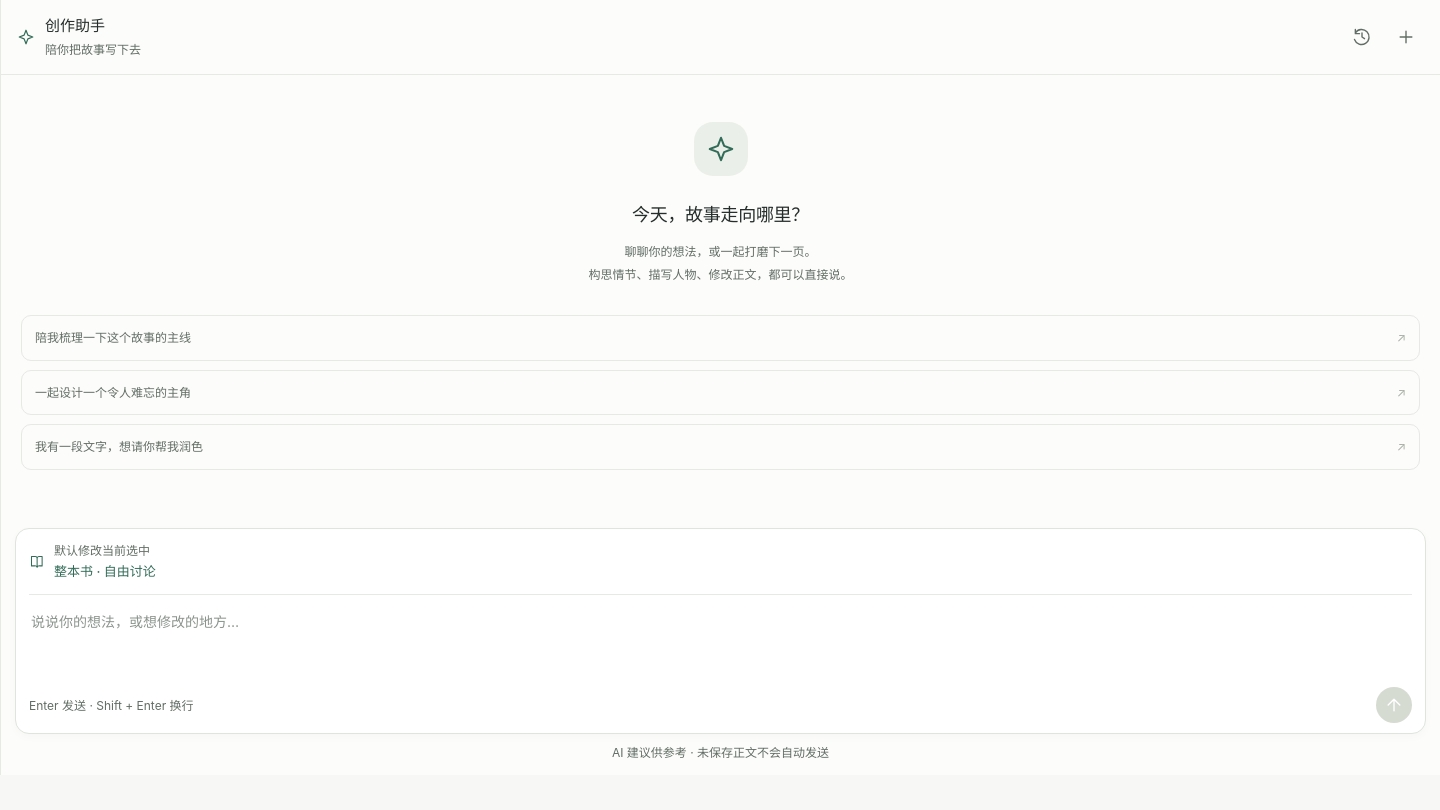
AssistantPanel 历史默认关闭与归档分组 › 点历史条目切换会话并关闭历史；有未发送草稿时先确认，拒绝则保留草稿
This screenshot has width=1440, height=810.
Type "还没发出去" into the text box named "消息输入" at (720, 644), box 29,608 -> 1412,680
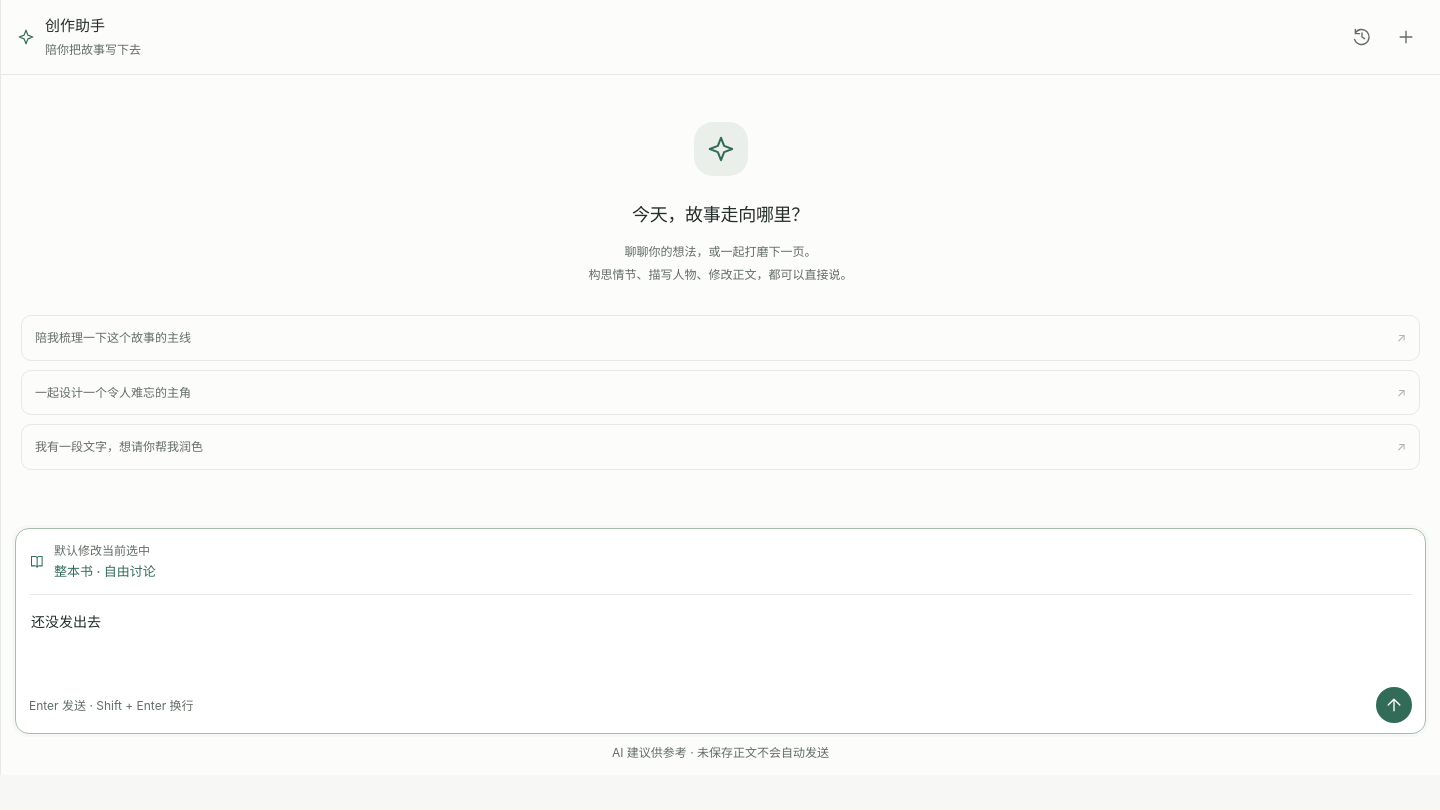
Click the button named "历史对话" at (1362, 37), box 1344,19 -> 1380,55
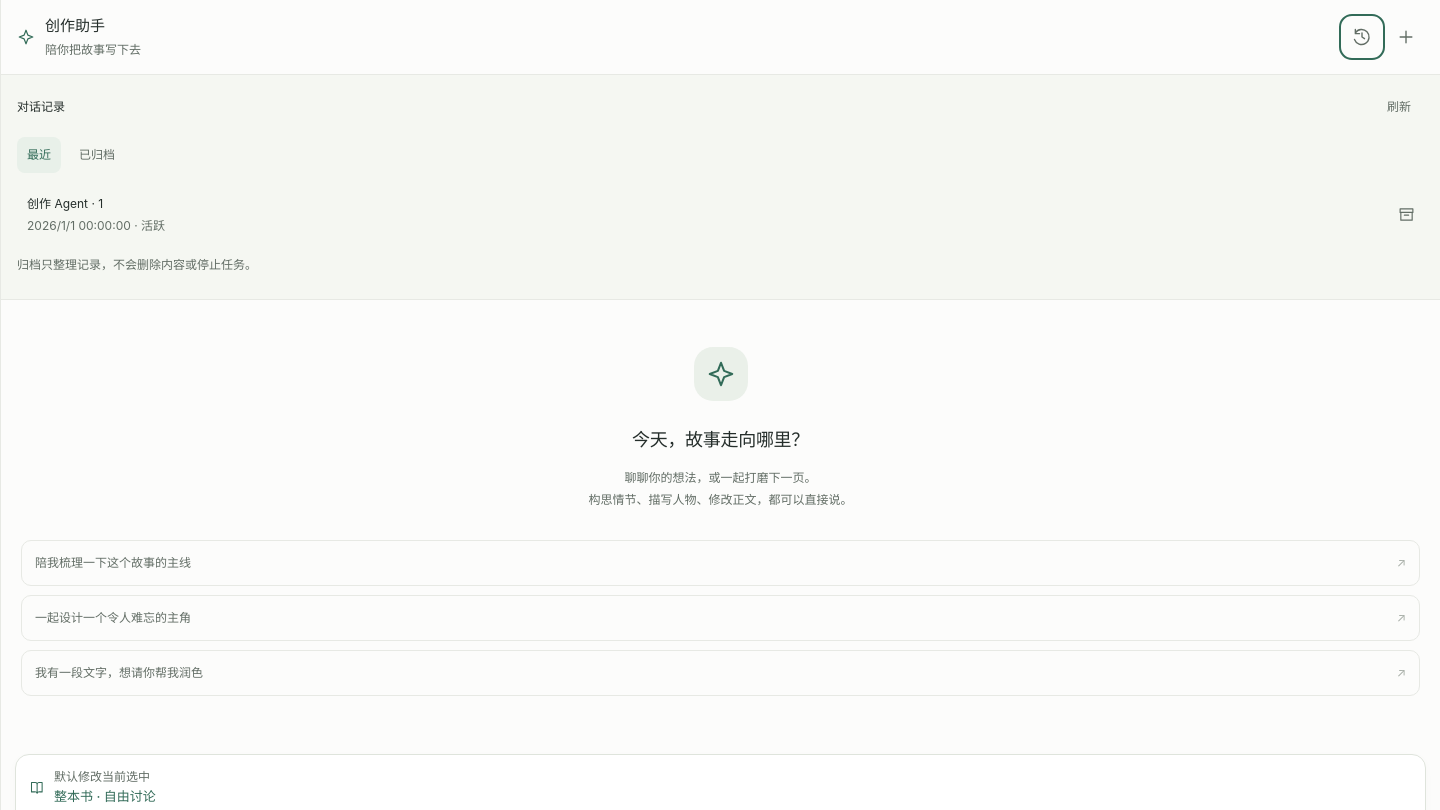
Click the button "创作 Agent · 1 2026/1/1 00:00:00 · 活跃" at (58, 203), box 17,184 -> 1384,245
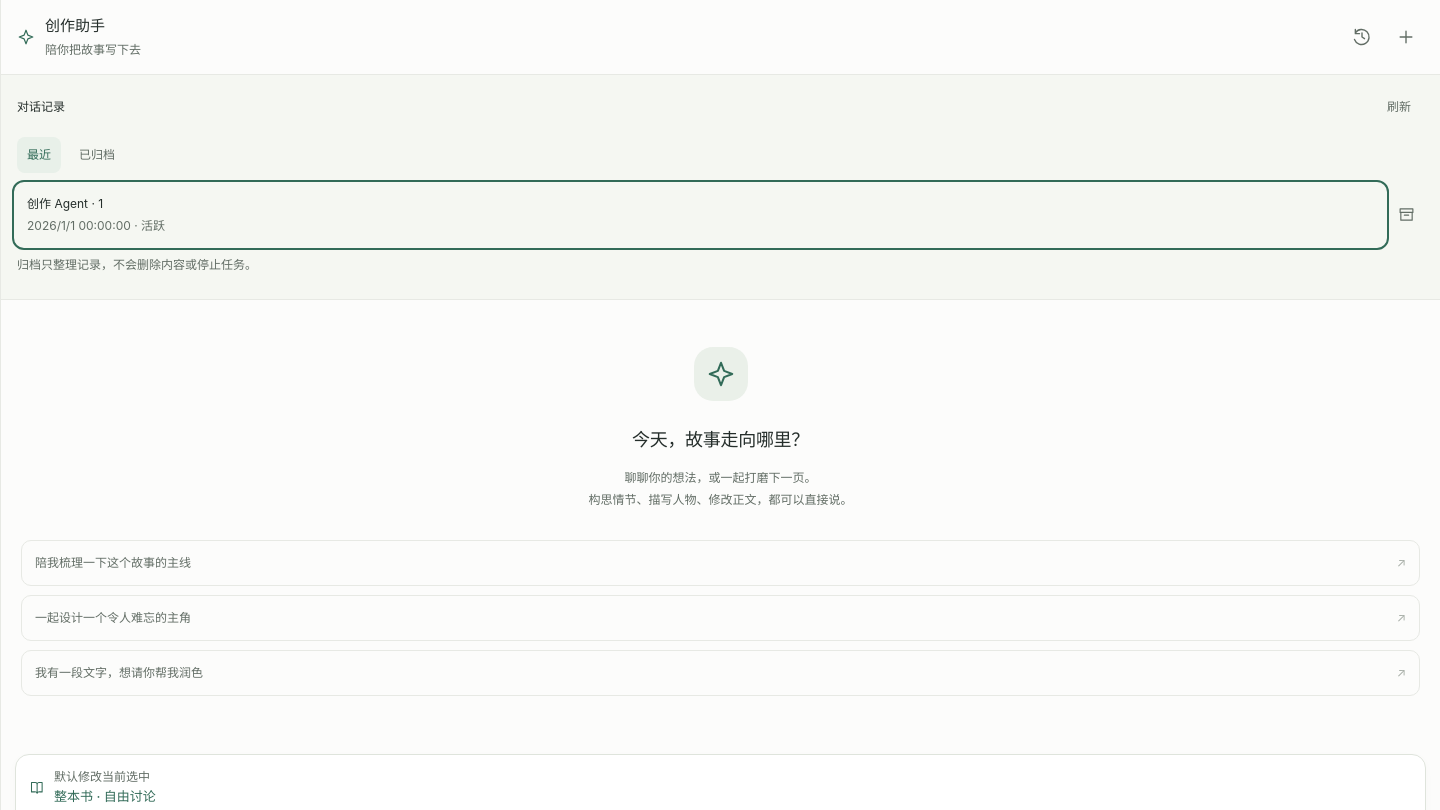
Expected: the text "对话记录" is shown, 17,97 -> 65,116
Click the button "创作 Agent · 1 2026/1/1 00:00:00 · 活跃" at (58, 203), box 17,184 -> 1384,245
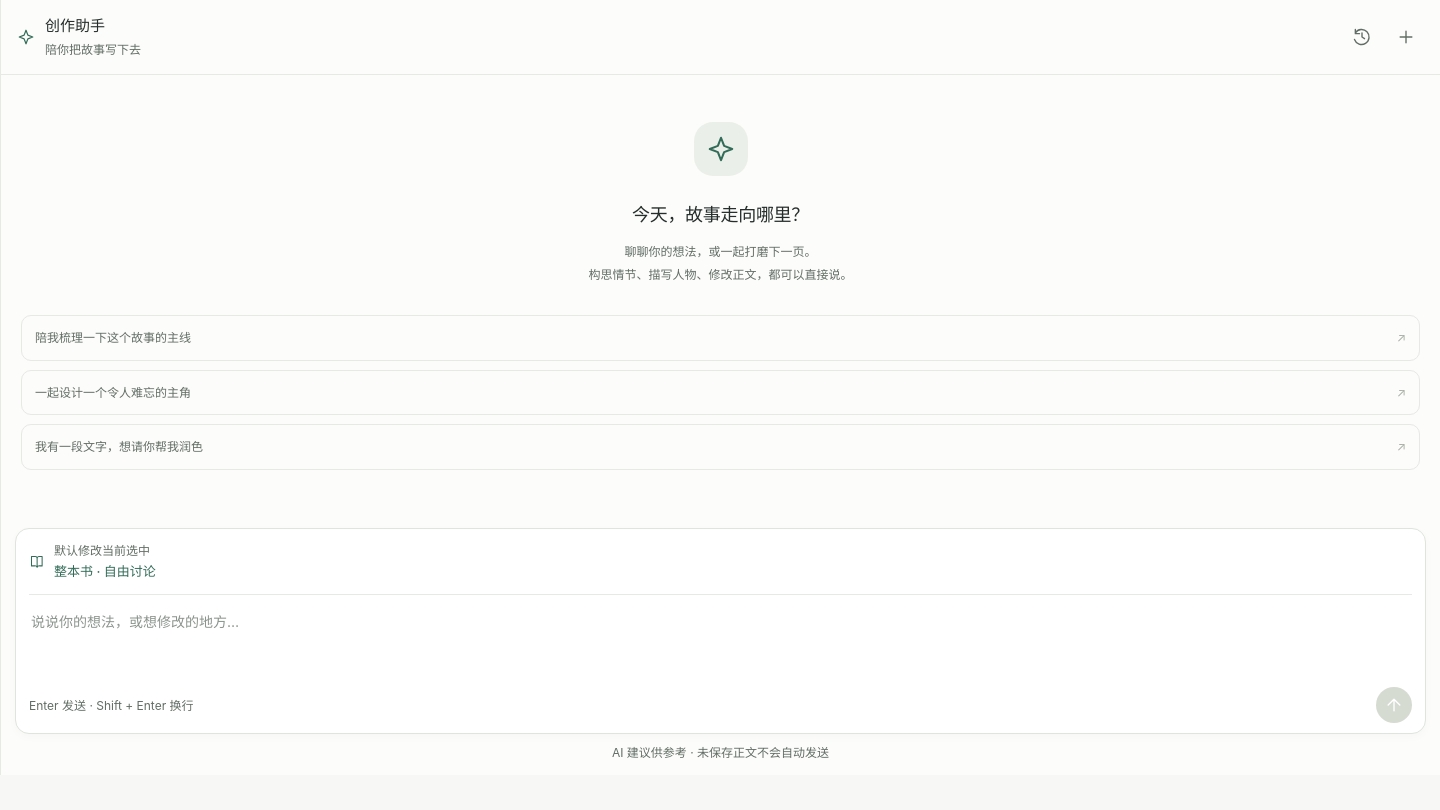
Expected: the text "对话记录" is gone
Expected: the text box named "消息输入" is empty, 29,608 -> 1412,680
